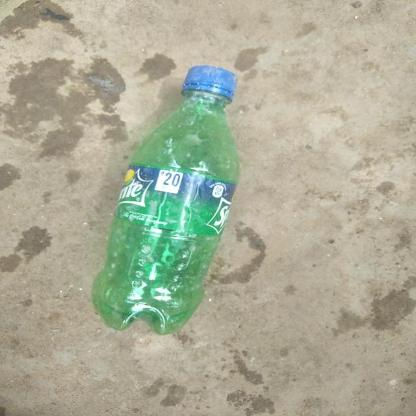Plastic Bottle: (90, 64, 240, 335)
